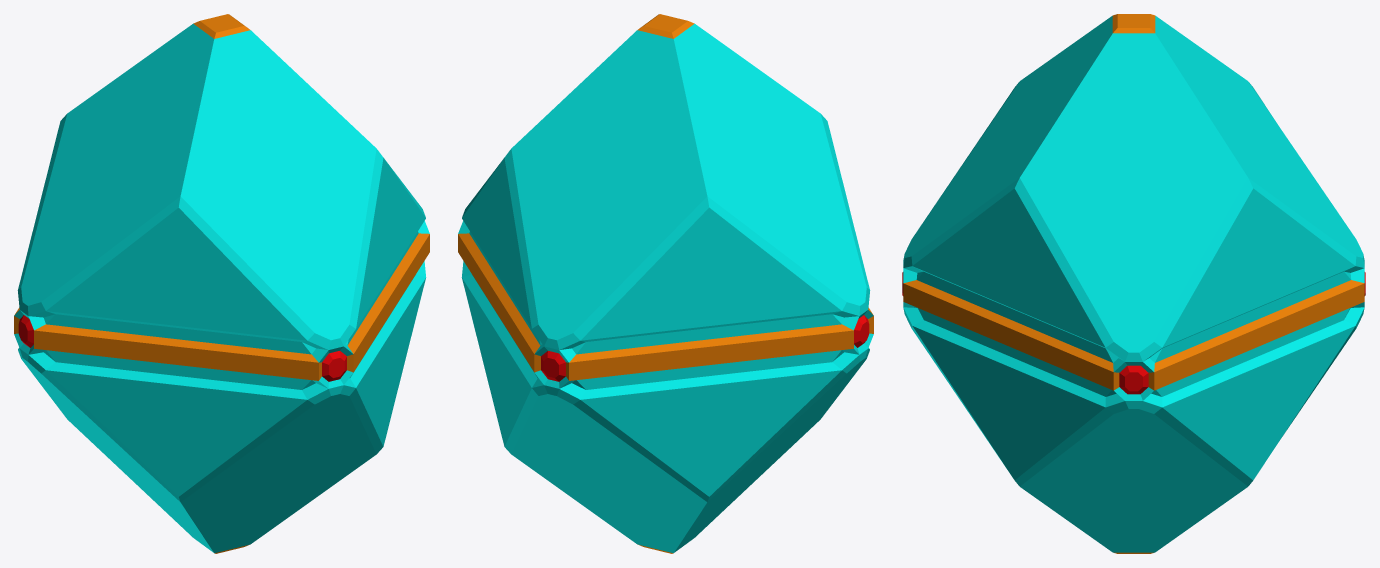
3 renders of one model, left to right at view 1: azimuth 30°, elevation 25°; view 2: azimuth 150°, elevation 25°; view 3: azimuth 270°, elevation 25°, orthographic.
Parts seen in each view (by area): view 1: Cube; view 2: Cube; view 3: Cube.
Part boxes in pixels (box(x1,y1,x2,y2)): Cube: box(14, 14, 429, 553); Cube: box(458, 14, 873, 553); Cube: box(902, 14, 1365, 553).
Size of the model in its own units: 187 by 234 by 187.
